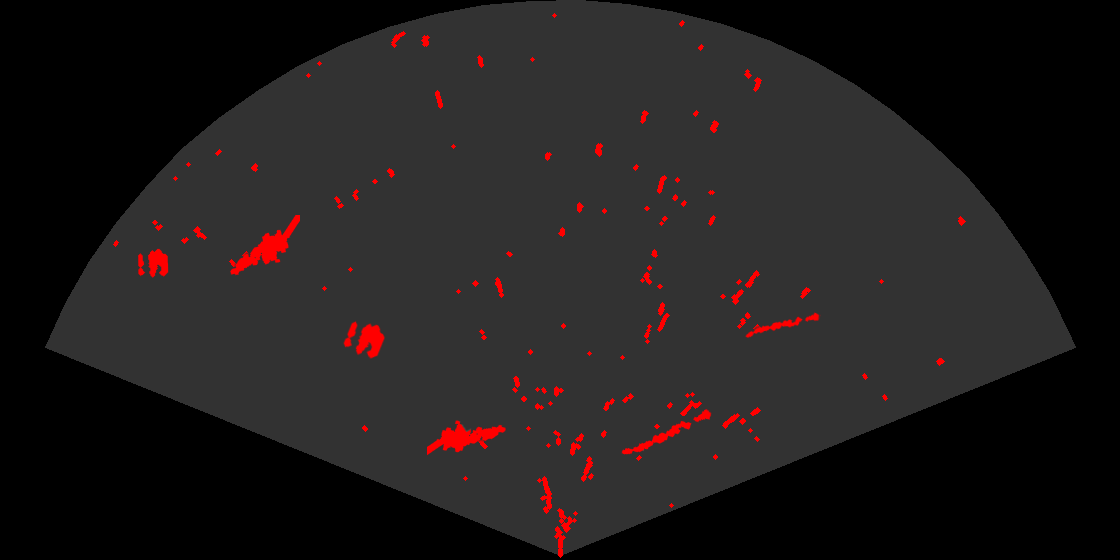ball: (342, 319, 387, 360), (136, 247, 170, 279)
chain: (620, 407, 713, 456), (743, 311, 821, 339)
frogman: (229, 215, 300, 277), (427, 419, 507, 457)
